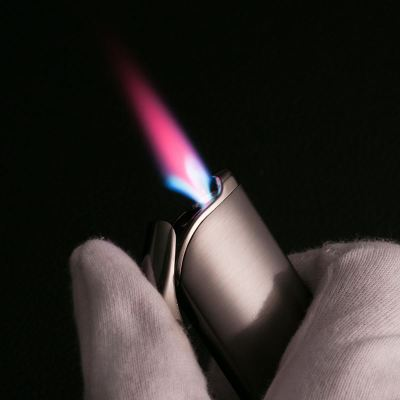fire: (118, 70, 227, 220)
